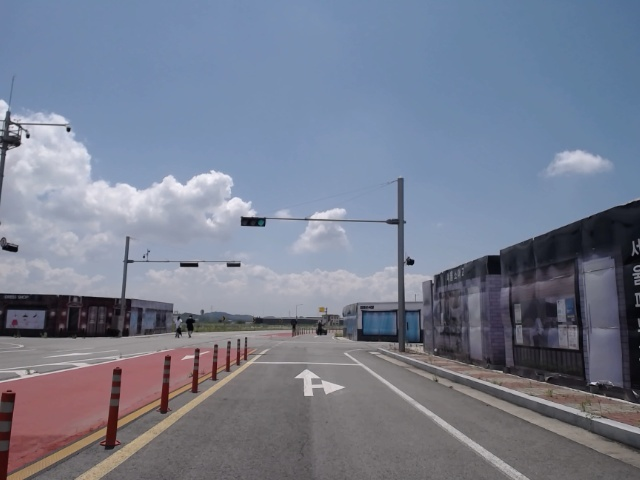green_3: (241, 217, 265, 226)
